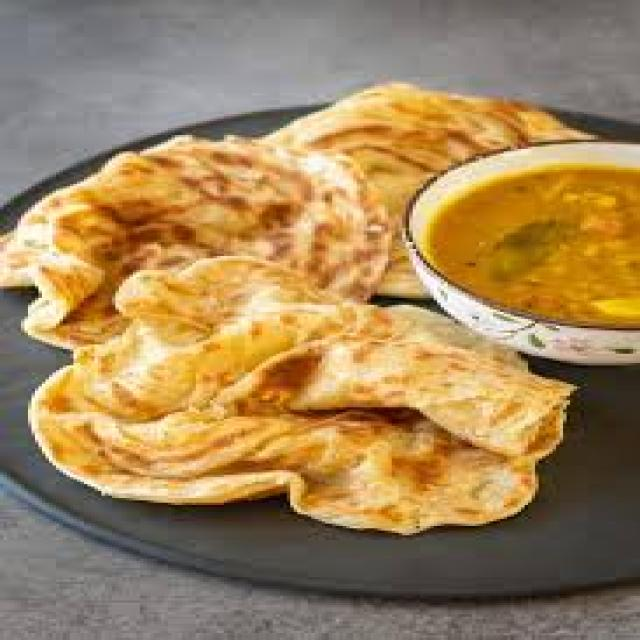ROTI: (31, 258, 570, 533), (0, 137, 388, 344), (262, 81, 588, 216)
